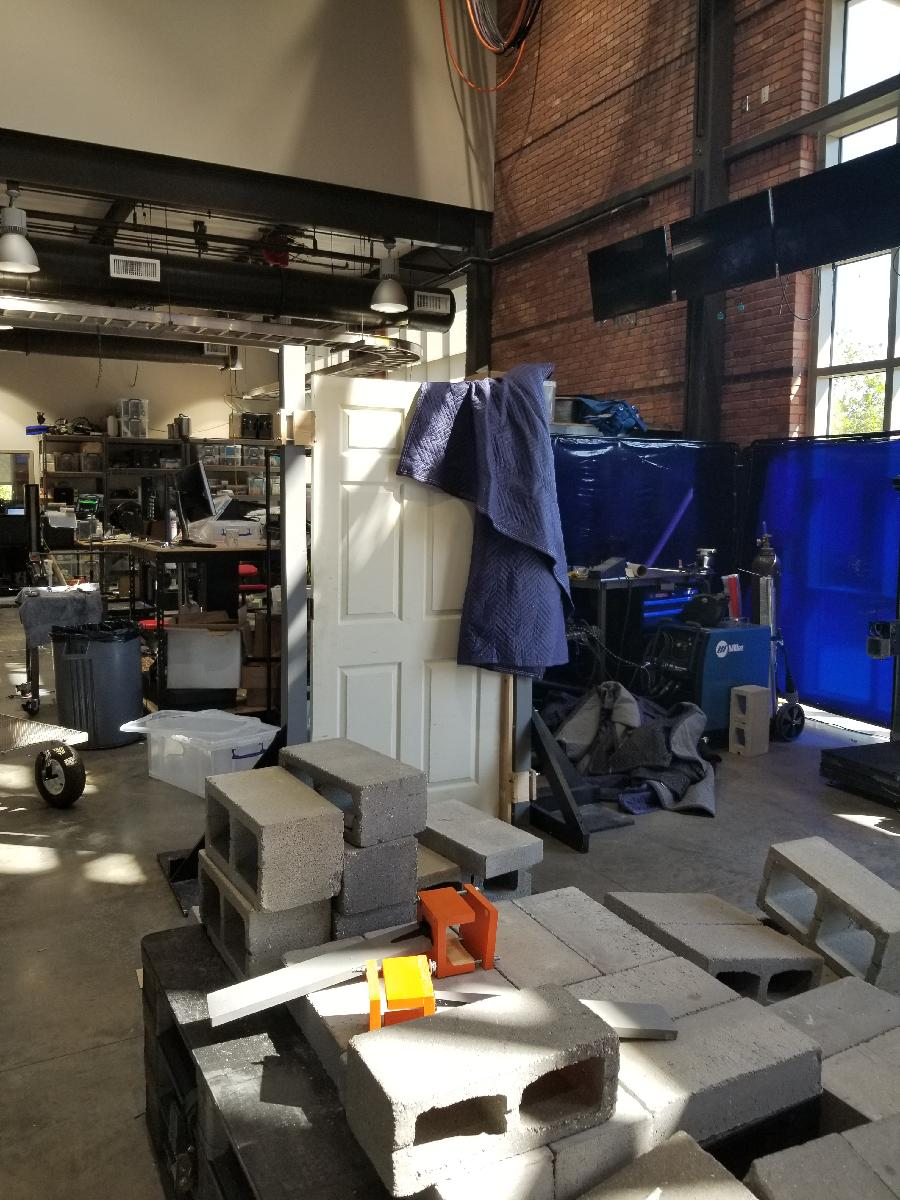door: (309, 373, 521, 873)
